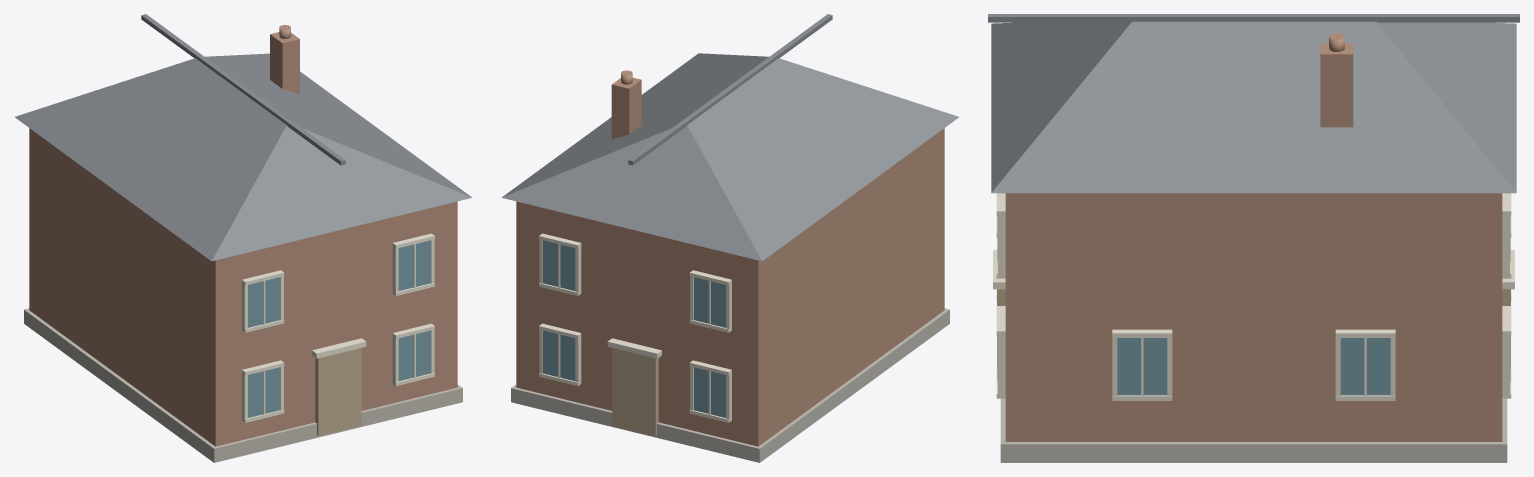
File: tyne-villa_lod0.glb
3 views of the same model, side by side, from view 1: azimuth 30°, elevation 25°; view 2: azimuth 150°, elevation 25°; view 3: azimuth 270°, elevation 25° (orthographic). The views are drawn at different scales.
Parts seen in each view (by area): view 1: RF_Body, RF_HippedRoof, RF_Foundation, RF_Door.001, RF_Ridge, RF_Chimney, RF_Window.003, RF_Window.004, RF_Window.002, RF_Window.001, RF_DoorLintel.001; view 2: RF_Body, RF_HippedRoof, RF_Foundation, RF_Door, RF_Ridge, RF_Chimney, RF_Window.007, RF_Window.008, RF_Window.006, RF_Window.005, RF_DoorLintel; view 3: RF_Body, RF_HippedRoof, RF_Foundation, RF_Ridge, RF_Window.009, RF_Window, RF_Chimney, RF_WindowFrame.008, RF_WindowFrame.016, RF_WindowFrame.006, RF_WindowFrame.014.
Boxes of the visible parts, x1,y1,x2,y2 form: RF_Body: [29, 128, 457, 446]; RF_HippedRoof: [15, 53, 472, 261]; RF_Foundation: [24, 308, 462, 462]; RF_Door.001: [315, 348, 361, 435]; RF_Ridge: [141, 14, 345, 165]; RF_Chimney: [270, 32, 299, 93]; RF_Window.003: [398, 330, 430, 380]; RF_Window.004: [398, 240, 430, 290]; RF_Window.002: [248, 277, 279, 327]; RF_Window.001: [248, 367, 279, 417]; RF_DoorLintel.001: [312, 338, 366, 358]; RF_Body: [516, 128, 944, 446]; RF_HippedRoof: [501, 53, 958, 261]; RF_Foundation: [511, 308, 949, 462]; RF_Door: [612, 348, 658, 435]; RF_Ridge: [628, 14, 832, 165]; RF_Chimney: [611, 77, 641, 139]; RF_Window.007: [543, 330, 575, 380]; RF_Window.008: [543, 240, 575, 290]; RF_Window.006: [694, 277, 725, 327]; RF_Window.005: [694, 367, 725, 417]; RF_DoorLintel: [607, 338, 661, 358]; RF_Body: [1005, 193, 1502, 441]; RF_HippedRoof: [991, 21, 1516, 193]; RF_Foundation: [1000, 398, 1507, 462]; RF_Ridge: [988, 14, 1519, 22]; RF_Window.009: [1117, 338, 1167, 395]; RF_Window: [1340, 338, 1390, 395]; RF_Chimney: [1320, 43, 1353, 127]; RF_WindowFrame.008: [998, 209, 1005, 278]; RF_WindowFrame.016: [1502, 209, 1509, 278]; RF_WindowFrame.006: [998, 329, 1005, 398]; RF_WindowFrame.014: [1502, 329, 1509, 398].
Size of the model in its own units: 9.7 by 10.47 by 12.85.
